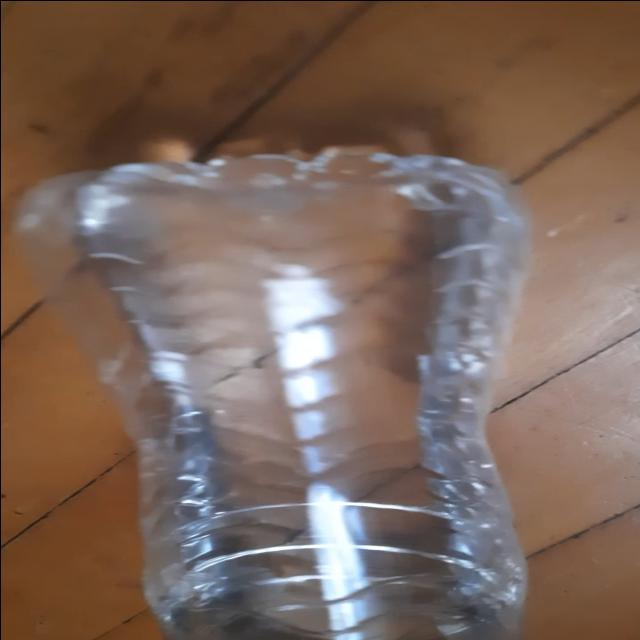Plastic: (9, 161, 524, 640)
